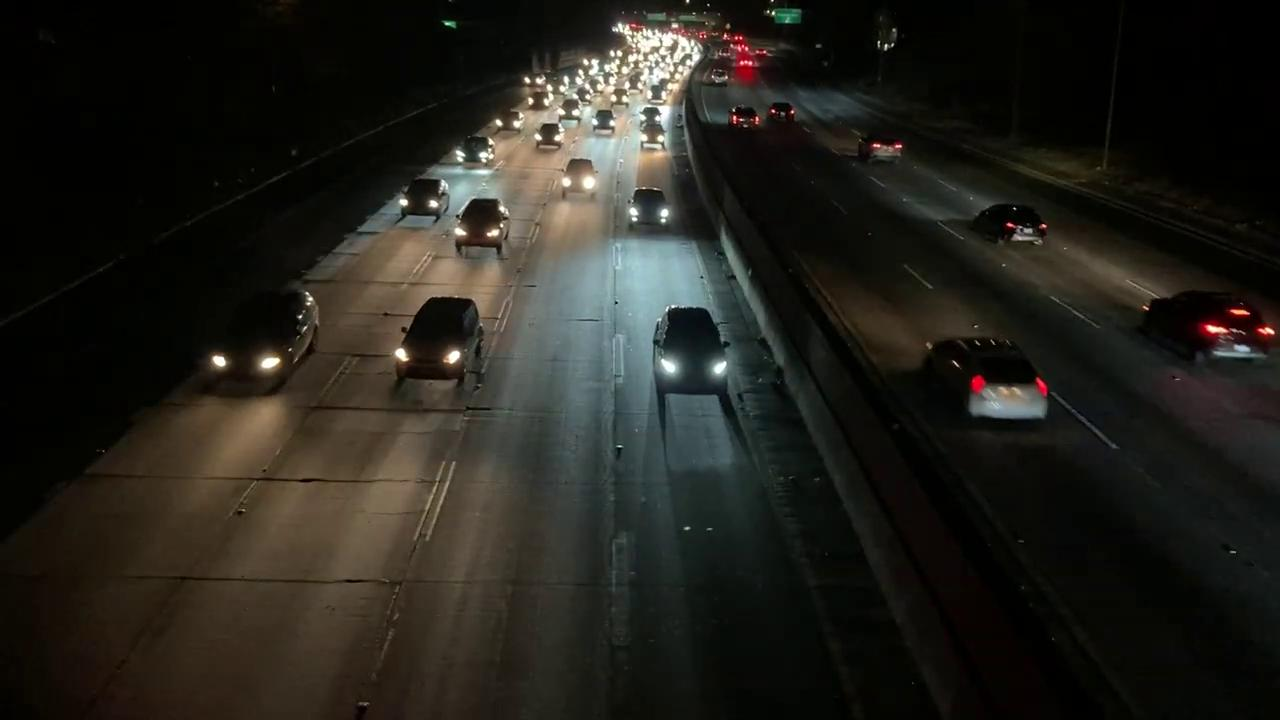car: (207, 279, 335, 390), (920, 338, 1046, 423), (382, 296, 501, 385), (1138, 292, 1278, 367), (636, 303, 731, 393), (450, 199, 513, 261), (390, 174, 449, 227), (972, 205, 1049, 243), (625, 181, 674, 232), (557, 155, 606, 204), (854, 129, 905, 171), (456, 131, 502, 167), (721, 101, 762, 133), (532, 119, 567, 149), (631, 122, 671, 147), (586, 106, 617, 131), (762, 102, 799, 122), (494, 108, 524, 132), (556, 94, 581, 122), (608, 88, 632, 107), (528, 91, 557, 101)
